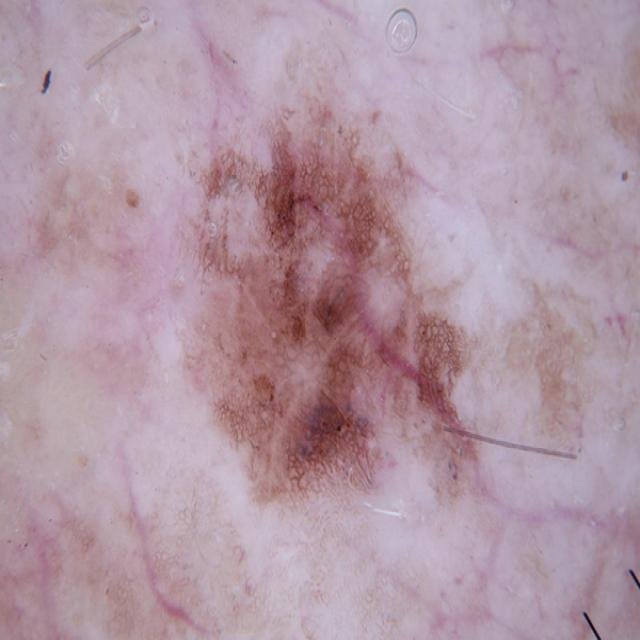Skin-Cancer Pigmented benign keratosis: (67, 18, 633, 640)
